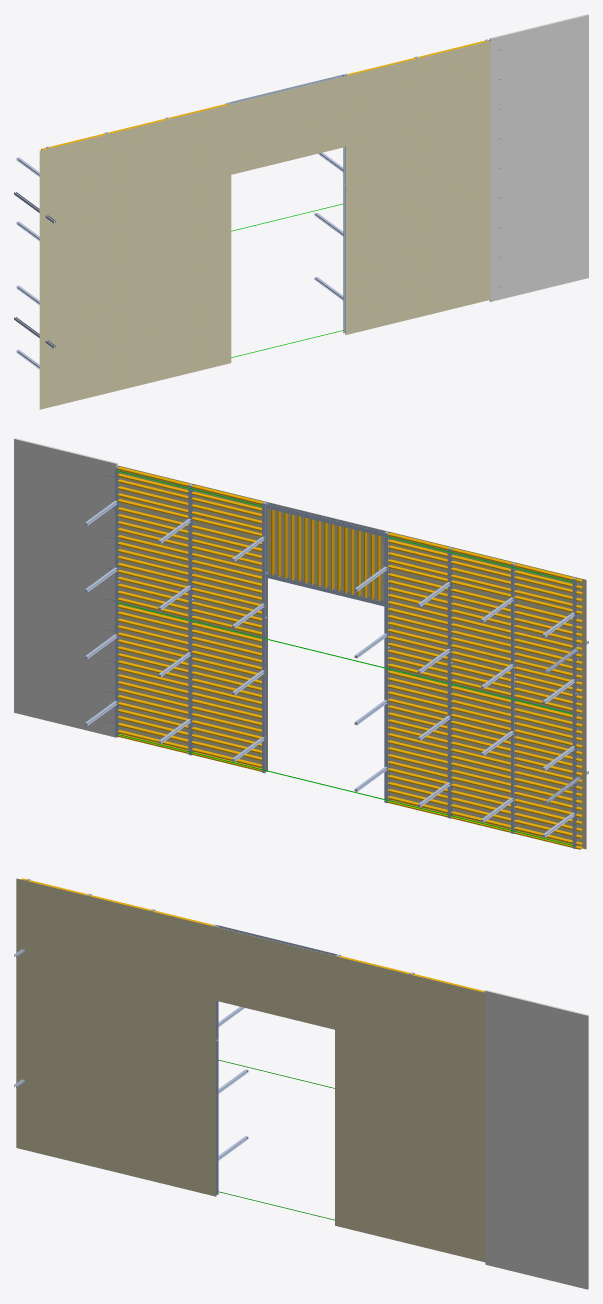
The picture shows the model from 3 angles, top to bottom: view 1: azimuth 30°, elevation 25°; view 2: azimuth 150°, elevation 25°; view 3: azimuth 330°, elevation 25°; orthographic projection. The views are drawn at different scales.
Visible parts, largest first — view 1: 0 100893 PL120x16000 BETONPLAAT, F4_M1 100580 PL12x1220 HOUTEN_PLAAT, F4_M1 100624 PL12x1220 HOUTEN_PLAAT, F4_M1 100325 PL12x1220 HOUTEN_PLAAT, F4_M1 100582 PL12x1220 HOUTEN_PLAAT, F4_M1 100613 PL12x1220 HOUTEN_PLAAT, F4_M1 100617 PL12x1220 HOUTEN_PLAAT, F4_M1 100646 PL12x1220 HOUTEN_PLAAT, F4_M1 100647 PL12x1220 HOUTEN_PLAAT, F4_M1 100657 PL12x1220 HOUTEN_PLAAT, F4_M1 100327 PL12x1220 HOUTEN_PLAAT, F4_M1 100337 PL12x1220 HOUTEN_PLAAT (+105 smaller); view 2: 0 100893 PL120x16000 BETONPLAAT, F1_M3 100145 HEA220 LIGGER, F1_M3 100231 HEA220 LIGGER, F1_M2 100022 HEA220 LIGGER, F1_M1 100274 HEA240 LIGGER, F1_M2 100102 HEA220 LIGGER, F1_M9 100536 HEA180 LIGGER, F1_M4 100188 HEA220 LIGGER, F1_M1 100287 HEA240 LIGGER, F1_M6 100146 HEA220 LIGGER, F1_M10 100809 HEA180 LIGGER, F1_M8 100232 HEA220 LIGGER (+4 smaller); view 3: 0 100893 PL120x16000 BETONPLAAT, F4_M1 100712 PL12x1220 HOUTEN_PLAAT, F4_M1 100624 PL12x1220 HOUTEN_PLAAT, F4_M1 100628 PL12x1220 HOUTEN_PLAAT, F4_M1 100631 PL12x1220 HOUTEN_PLAAT, F4_M1 100632 PL12x1220 HOUTEN_PLAAT, F4_M1 100638 PL12x1220 HOUTEN_PLAAT, F4_M1 100641 PL12x1220 HOUTEN_PLAAT, F4_M1 100644 PL12x1220 HOUTEN_PLAAT, F4_M1 100646 PL12x1220 HOUTEN_PLAAT, F4_M1 100661 PL12x1220 HOUTEN_PLAAT, F4_M1 100675 PL12x1220 HOUTEN_PLAAT (+105 smaller).
Boxes of the visible parts, box(x1,y1,x2,y2) form: 0 100893 PL120x16000 BETONPLAAT: box(489, 14, 588, 301); F4_M1 100580 PL12x1220 HOUTEN_PLAAT: box(384, 62, 403, 106); F4_M1 100624 PL12x1220 HOUTEN_PLAAT: box(97, 132, 116, 176); F4_M1 100325 PL12x1220 HOUTEN_PLAAT: box(212, 104, 231, 148); F4_M1 100582 PL12x1220 HOUTEN_PLAAT: box(384, 142, 403, 186); F4_M1 100613 PL12x1220 HOUTEN_PLAAT: box(116, 221, 135, 265); F4_M1 100617 PL12x1220 HOUTEN_PLAAT: box(154, 319, 173, 363); F4_M1 100646 PL12x1220 HOUTEN_PLAAT: box(441, 48, 460, 92); F4_M1 100647 PL12x1220 HOUTEN_PLAAT: box(441, 88, 460, 132); F4_M1 100657 PL12x1220 HOUTEN_PLAAT: box(403, 151, 422, 195); F4_M1 100327 PL12x1220 HOUTEN_PLAAT: box(212, 184, 231, 228); F4_M1 100337 PL12x1220 HOUTEN_PLAAT: box(212, 264, 231, 309); 0 100893 PL120x16000 BETONPLAAT: box(14, 438, 117, 737); F1_M3 100145 HEA220 LIGGER: box(447, 663, 453, 818); F1_M3 100231 HEA220 LIGGER: box(262, 618, 267, 773); F1_M2 100022 HEA220 LIGGER: box(384, 647, 389, 803); F1_M1 100274 HEA240 LIGGER: box(266, 502, 385, 536); F1_M2 100102 HEA220 LIGGER: box(188, 599, 193, 755); F1_M9 100536 HEA180 LIGGER: box(572, 693, 577, 848); F1_M4 100188 HEA220 LIGGER: box(511, 678, 516, 833); F1_M1 100287 HEA240 LIGGER: box(266, 572, 384, 606); F1_M6 100146 HEA220 LIGGER: box(447, 547, 453, 663); F1_M10 100809 HEA180 LIGGER: box(115, 582, 119, 737); F1_M8 100232 HEA220 LIGGER: box(262, 501, 267, 618); 0 100893 PL120x16000 BETONPLAAT: box(485, 990, 588, 1289); F4_M1 100712 PL12x1220 HOUTEN_PLAAT: box(16, 878, 36, 924); F4_M1 100624 PL12x1220 HOUTEN_PLAAT: box(76, 893, 96, 939); F4_M1 100628 PL12x1220 HOUTEN_PLAAT: box(56, 916, 76, 962); F4_M1 100631 PL12x1220 HOUTEN_PLAAT: box(36, 897, 56, 943); F4_M1 100632 PL12x1220 HOUTEN_PLAAT: box(36, 939, 56, 985); F4_M1 100638 PL12x1220 HOUTEN_PLAAT: box(36, 1022, 56, 1068); F4_M1 100641 PL12x1220 HOUTEN_PLAAT: box(36, 1064, 56, 1110); F4_M1 100644 PL12x1220 HOUTEN_PLAAT: box(36, 1106, 56, 1152); F4_M1 100646 PL12x1220 HOUTEN_PLAAT: box(434, 980, 454, 1026); F4_M1 100661 PL12x1220 HOUTEN_PLAAT: box(434, 1189, 454, 1235); F4_M1 100675 PL12x1220 HOUTEN_PLAAT: box(454, 999, 474, 1045).
Size of the model in its own units: 34950 by 16000 by 4394.
